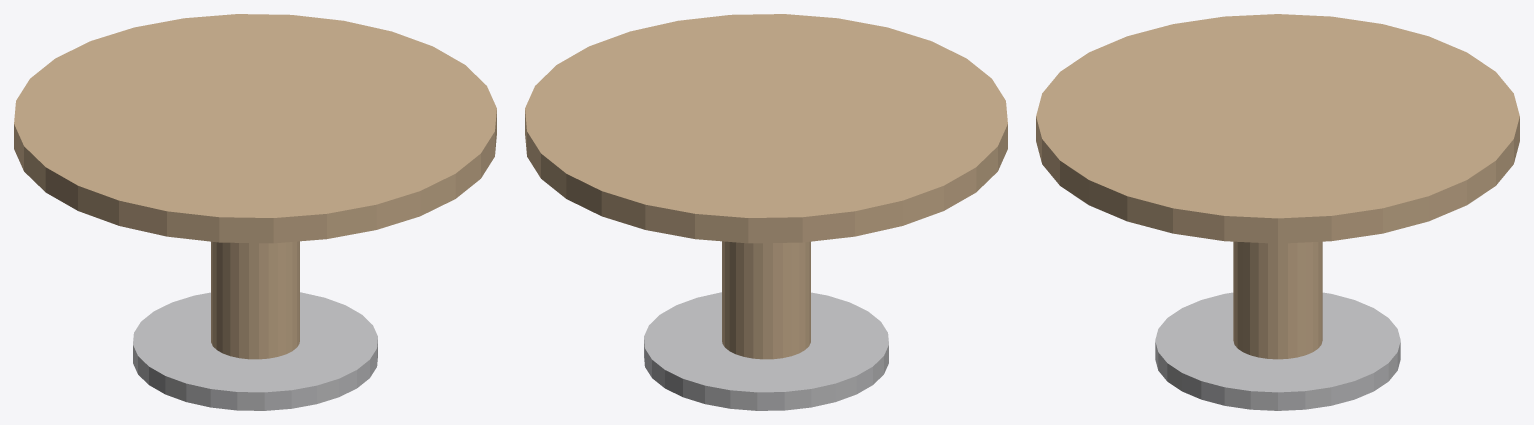
File: round_dining_table_medium.glb
3 views of the same model, side by side, from view 1: azimuth 30°, elevation 25°; view 2: azimuth 150°, elevation 25°; view 3: azimuth 270°, elevation 25° (orthographic).
Parts seen in each view (by area): view 1: WOOD_top, METAL_DARK_base, WOOD_DARK_pedestal; view 2: WOOD_top, METAL_DARK_base, WOOD_DARK_pedestal; view 3: WOOD_top, METAL_DARK_base, WOOD_DARK_pedestal.
Boxes of the visible parts, bbox=[...] form: WOOD_top: bbox=[14, 14, 496, 243]; METAL_DARK_base: bbox=[133, 292, 377, 410]; WOOD_DARK_pedestal: bbox=[211, 241, 299, 359]; WOOD_top: bbox=[525, 14, 1007, 243]; METAL_DARK_base: bbox=[644, 292, 888, 410]; WOOD_DARK_pedestal: bbox=[722, 241, 810, 359]; WOOD_top: bbox=[1036, 14, 1519, 243]; METAL_DARK_base: bbox=[1155, 292, 1400, 410]; WOOD_DARK_pedestal: bbox=[1233, 241, 1322, 359].
Size of the model in its own units: 1.3 by 0.72 by 1.3.
